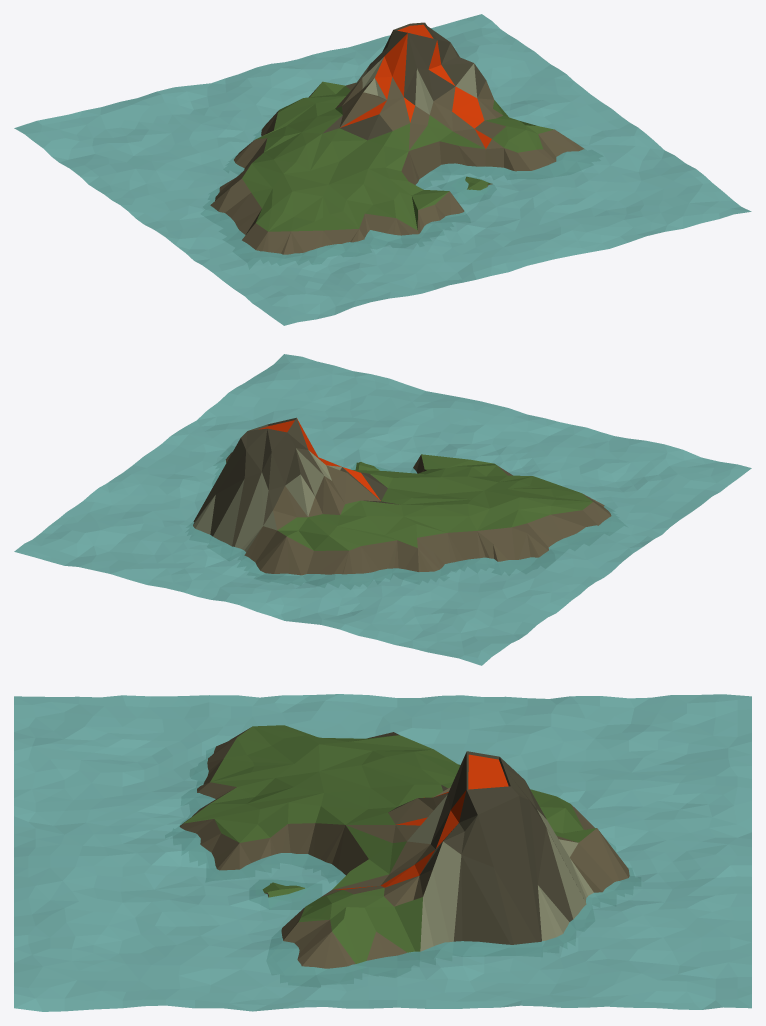
The model's file is DmgIsland.fbx.
3 renders of one model, top to bottom at view 1: azimuth 30°, elevation 25°; view 2: azimuth 150°, elevation 25°; view 3: azimuth 270°, elevation 25°, orthographic. The views are drawn at different scales.
Visible parts, largest first — view 1: occean, Island; view 2: occean, Island; view 3: occean, Island.
Part boxes in pixels (box(x1,y1,x2,y2)): occean: box(14, 14, 751, 325); Island: box(210, 22, 584, 254); occean: box(14, 354, 751, 665); Island: box(193, 417, 611, 575); occean: box(14, 694, 751, 1011); Island: box(179, 725, 629, 968).
Bounding box in the file's own units: 1880 × 439 × 1880.
